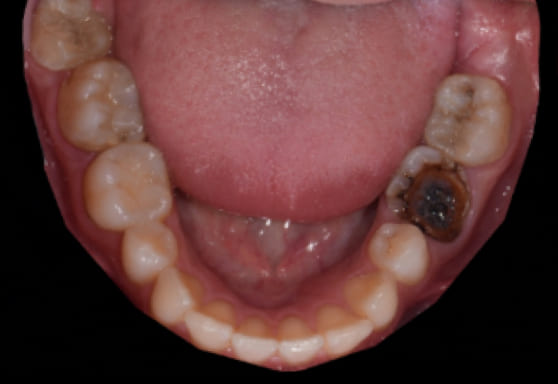LL1BC_healthy: (370, 228, 424, 280)
LL1M_decay: (429, 76, 507, 161)
LL2BC_decay: (393, 152, 468, 244)
LL2M_decay: (461, 7, 533, 74)
LLCI_healthy: (278, 319, 321, 364)
LLC_healthy: (350, 277, 395, 324)
LLLI_healthy: (321, 310, 370, 355)
LR1BC_healthy: (122, 222, 177, 277)
LR1M_decay: (62, 60, 146, 147)
LR2BC_healthy: (86, 144, 172, 226)
LR2M_decay: (31, 2, 109, 68)
LRCI_healthy: (236, 319, 276, 362)
LRC_healthy: (152, 268, 199, 322)
LRLI_healthy: (191, 302, 236, 348)
